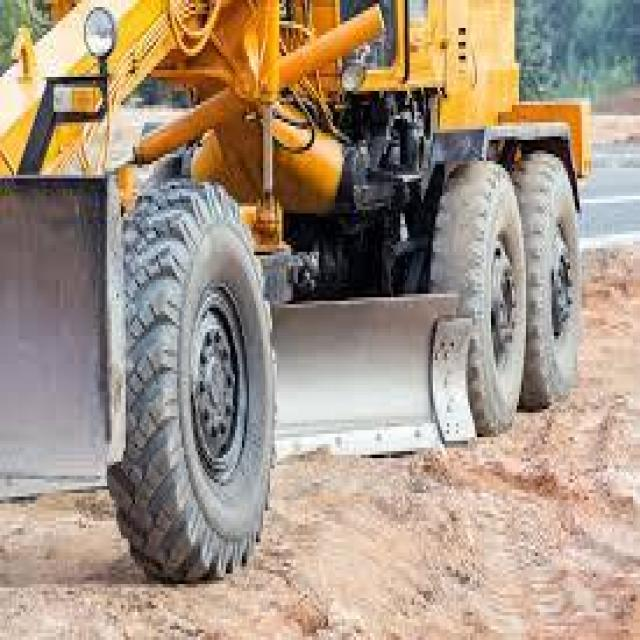Grader: (7, 4, 624, 570)
